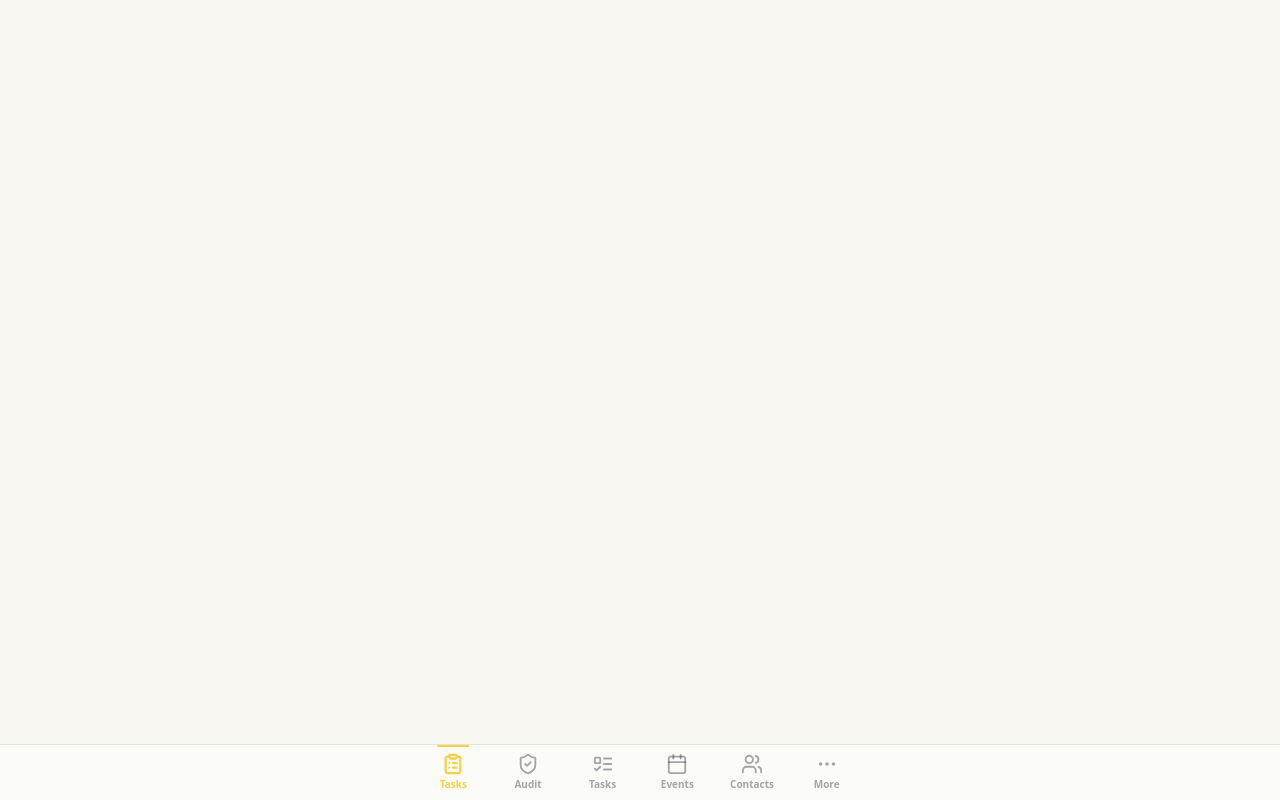
Test case: BottomNav — admin More sheet Event Series link › opens the admin sheet when More is clicked
The image size is (1280, 800).
Click the button with aria-label "admin menu" at (827, 772), box [789, 745, 864, 799]
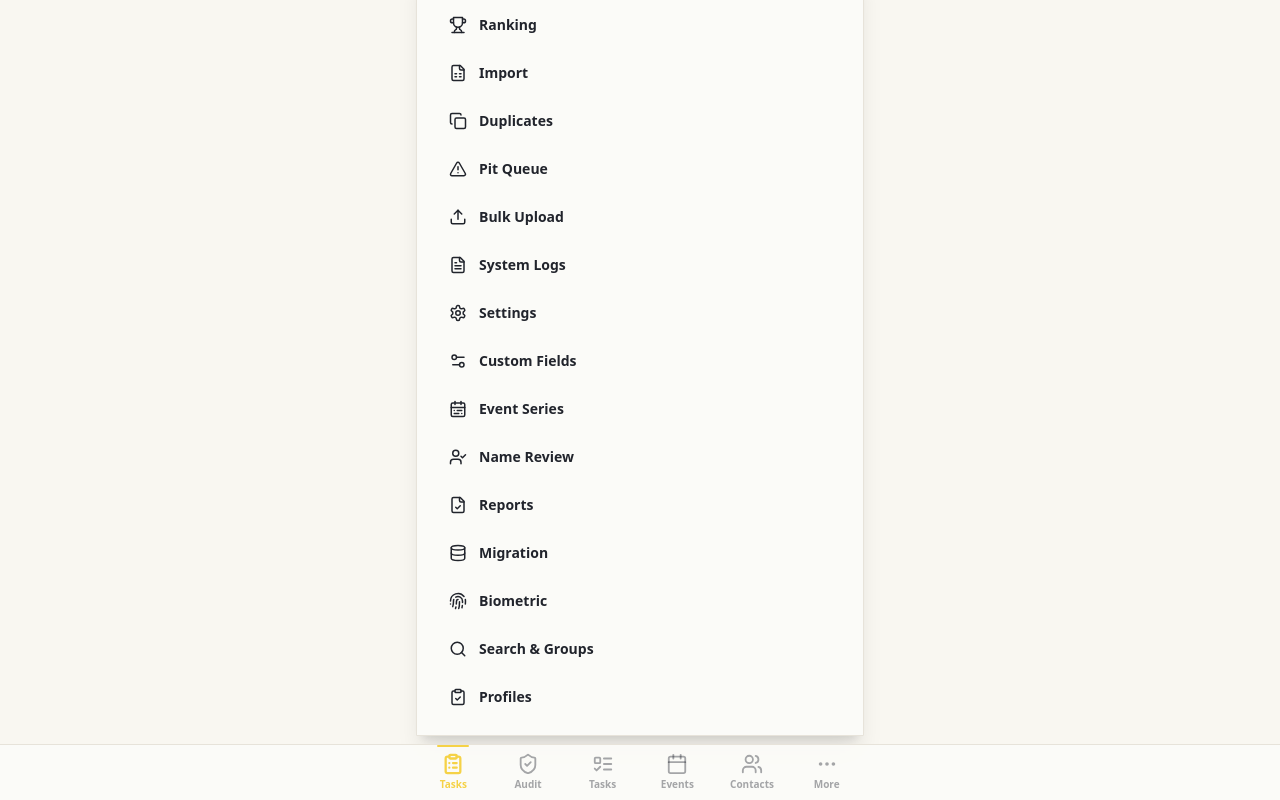
Expected: the link "Event Series" is shown, [449, 399, 564, 418]
